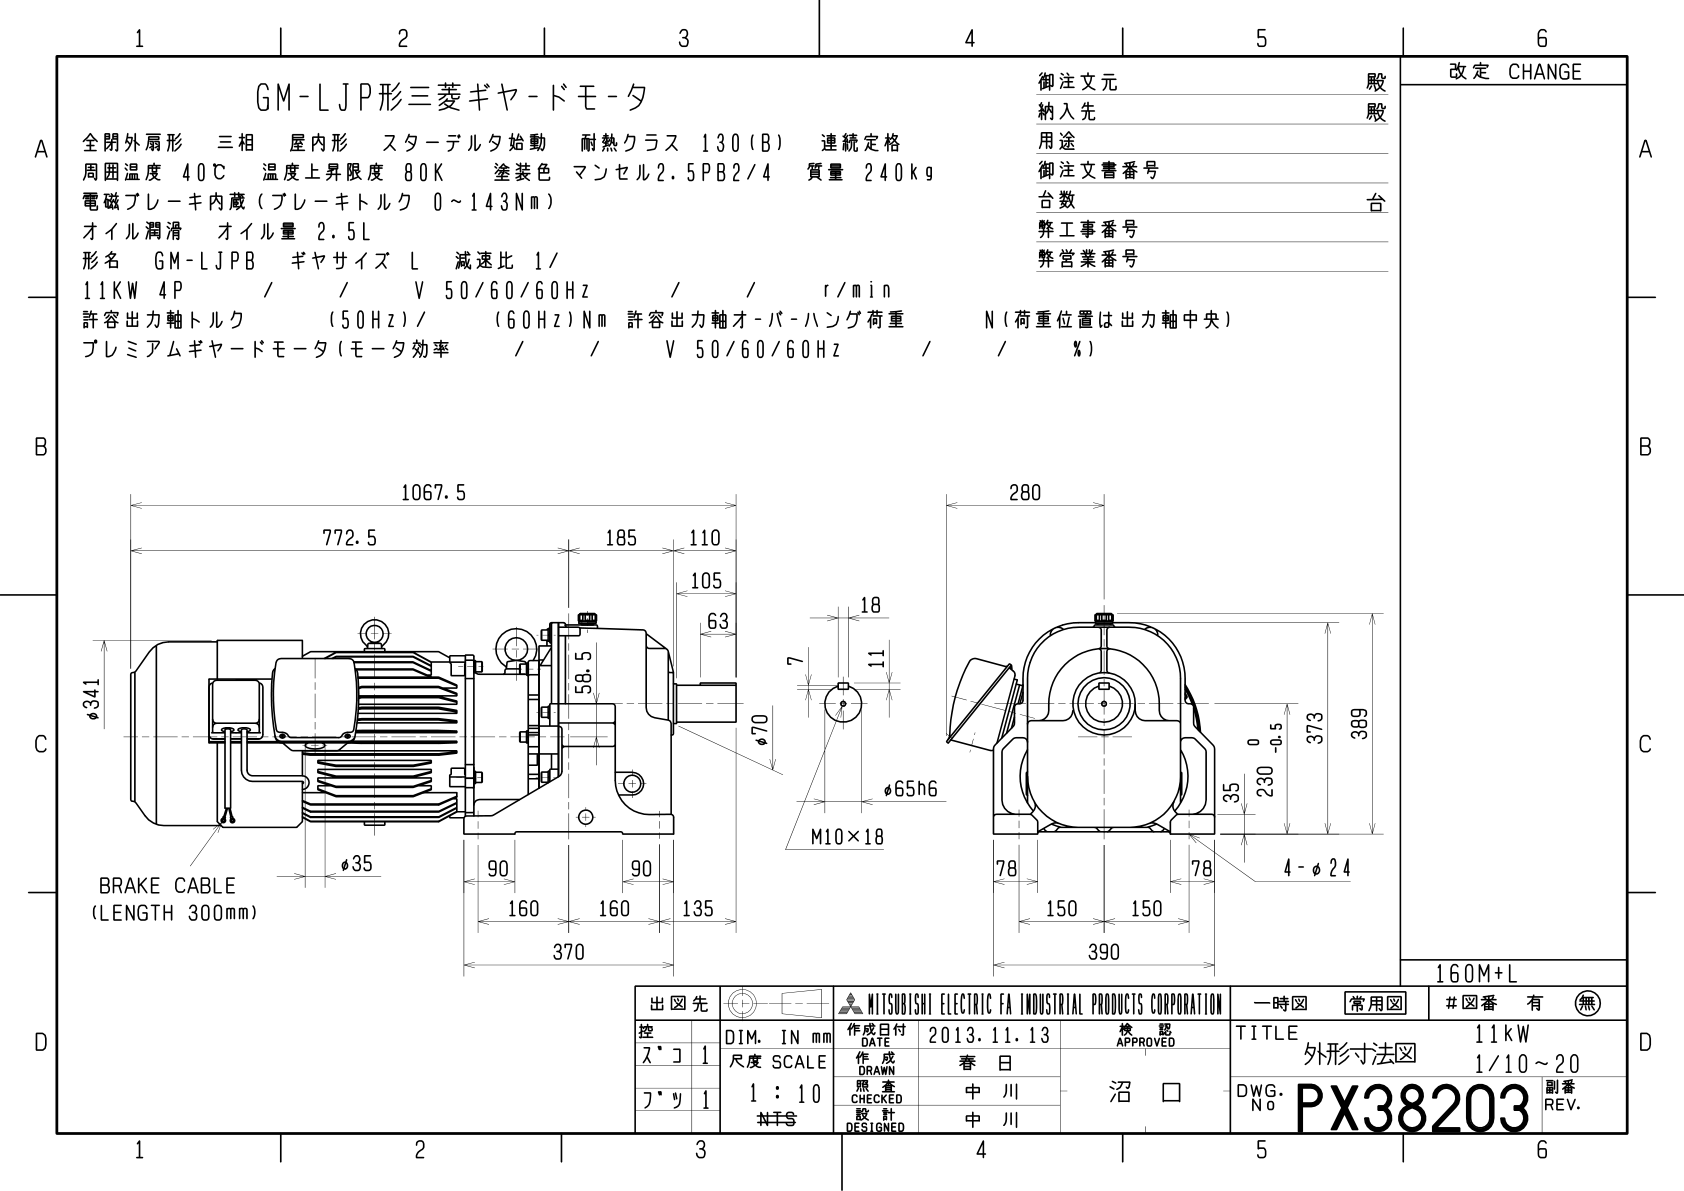GM_LJP_屋内_三相_脚: (54, 434, 1397, 982)
